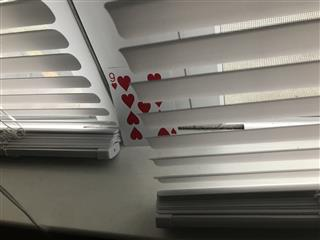NineOfHearts: (103, 68, 180, 146)
